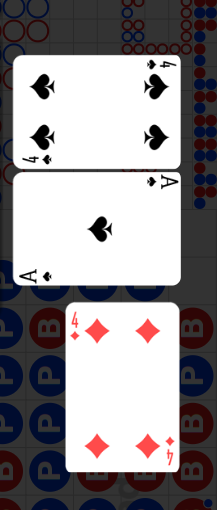4D: (164, 434, 176, 466)
4S: (21, 153, 55, 166)
AS: (18, 267, 54, 284)
